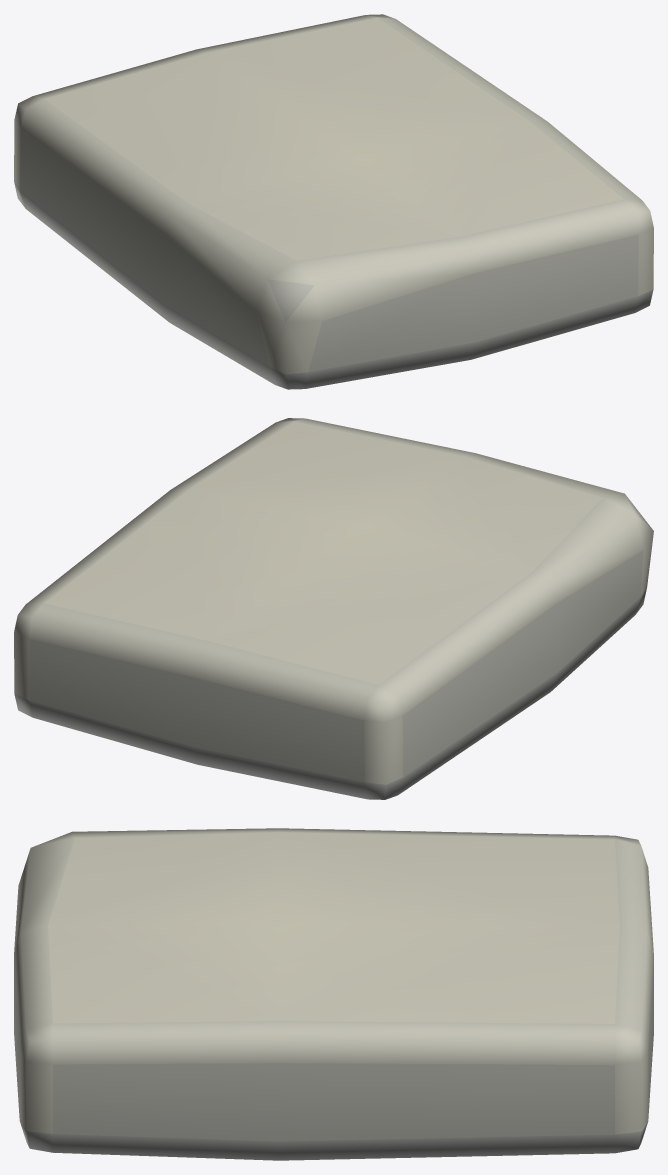
Rendered from trim_stone1_1_LOD_setup.fbx.
The picture shows the model from 3 angles, top to bottom: view 1: azimuth 30°, elevation 25°; view 2: azimuth 150°, elevation 25°; view 3: azimuth 270°, elevation 25°; orthographic projection. The views are drawn at different scales.
Visible parts, largest first — view 1: trim_stone1_1_LOD0; view 2: trim_stone1_1_LOD0; view 3: trim_stone1_1_LOD0.
Boxes of the visible parts, x1,y1,x2,y2 form: trim_stone1_1_LOD0: [14, 14, 653, 389]; trim_stone1_1_LOD0: [14, 418, 653, 799]; trim_stone1_1_LOD0: [14, 828, 653, 1160].
Size of what is drawn, in the model's own units: 108 by 33.78 by 135.
